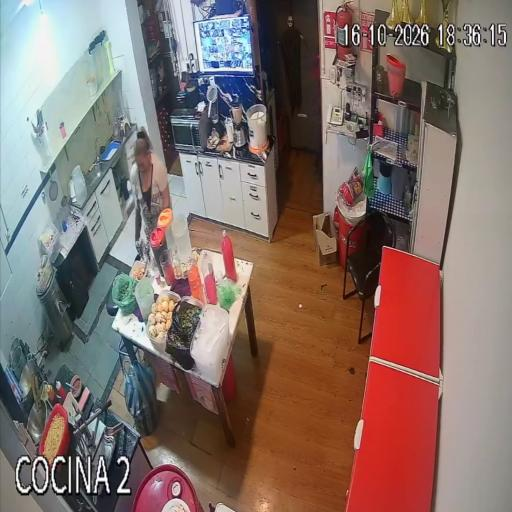Balde: (247, 104, 268, 153)
Cernidor: (206, 85, 218, 120)
Jarra1: (150, 227, 167, 275)
Jarra2: (158, 208, 176, 253)
Jarra3: (135, 278, 154, 320)
Jarra4: (172, 214, 192, 263)
Licuadora: (210, 100, 225, 136)
Licuadora2: (231, 95, 246, 150)
Microondas: (170, 109, 211, 151)
Persona2: (130, 129, 171, 252)
Taper: (129, 260, 148, 281)
Taper2: (146, 292, 179, 352)
Taper3: (165, 297, 202, 369)
Taper4: (191, 305, 229, 383)
